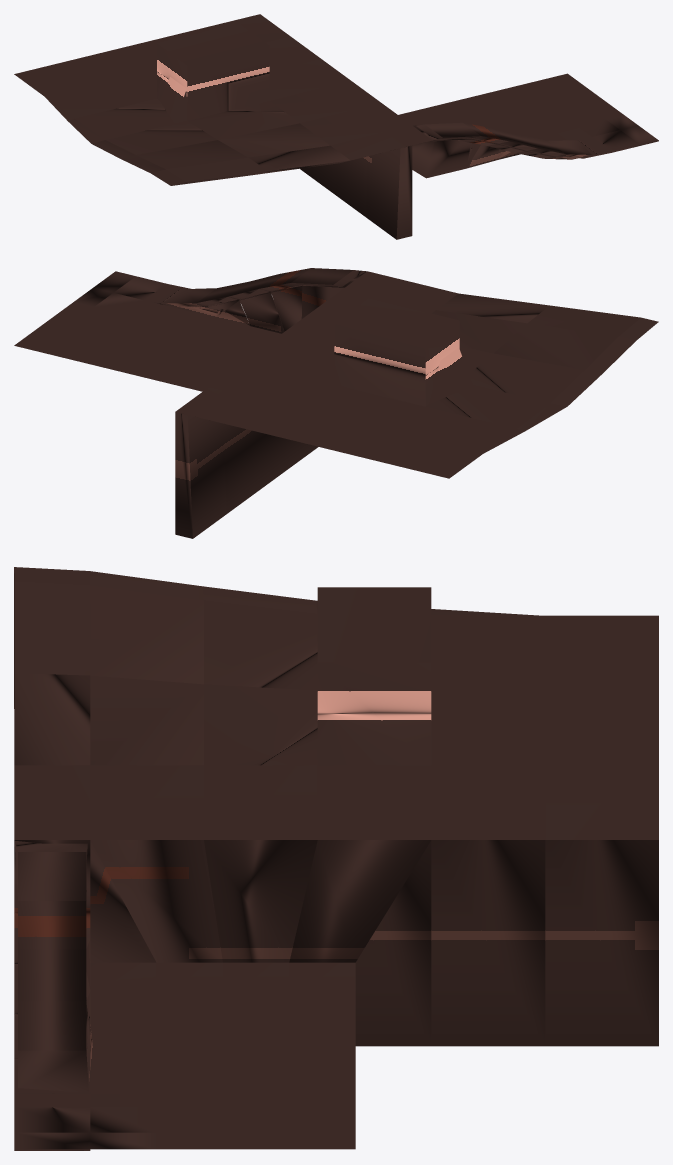
Rendered from world2.glb.
The picture shows the model from 3 angles, top to bottom: view 1: azimuth 30°, elevation 25°; view 2: azimuth 150°, elevation 25°; view 3: azimuth 270°, elevation 25°; orthographic projection. The views are drawn at different scales.
Parts seen in each view (by area): view 1: Cube; view 2: Cube; view 3: Cube.
Part boxes in pixels (x1,y1,x2,y2): Cube: (14,14,658,239); Cube: (14,268,658,538); Cube: (14,567,658,1150).
Size of what is drawn, in the model's own units: 27.76 by 9 by 17.01.
Materials: 1 (1 with a texture image).
